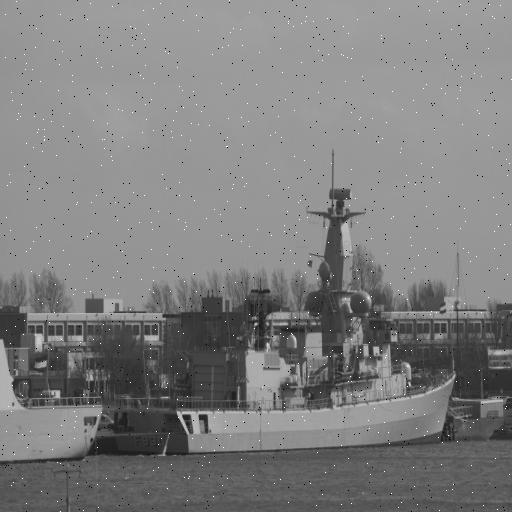Fragata: (105, 147, 462, 461)
